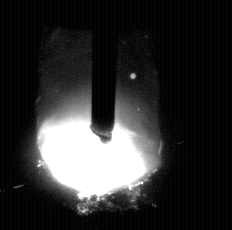arame: (92, 0, 116, 143)
poca: (36, 0, 163, 230)
